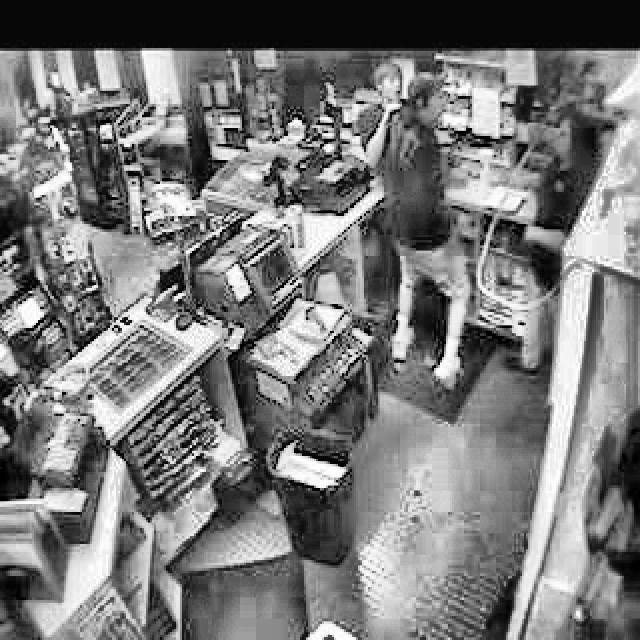robbery: (352, 58, 457, 177)
